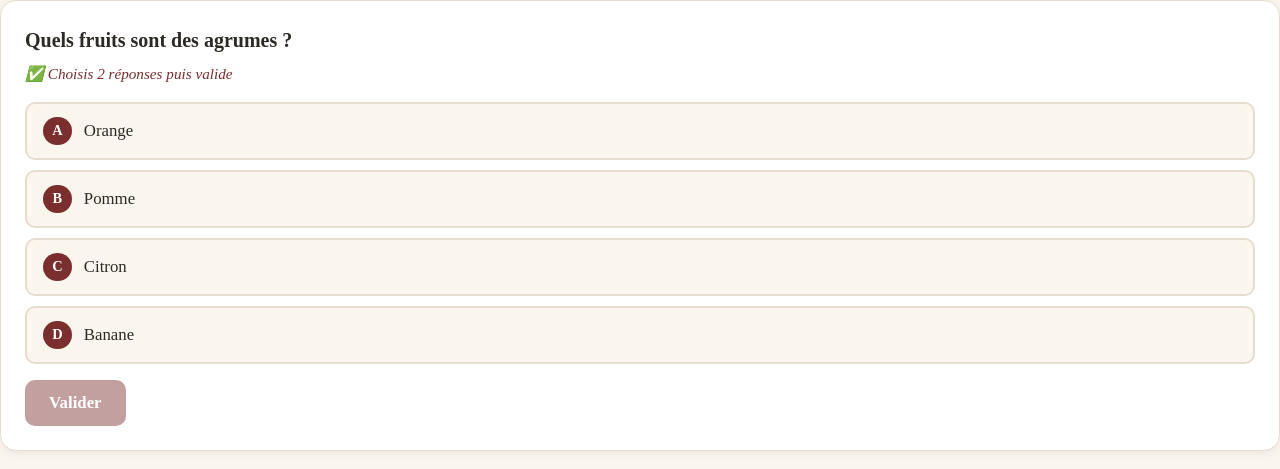
Test: QuestionCard - multi mode (several correct answers) › after reveal, the Valider button disappears and options are aria-disabled
Click the button "A Orange". click: (108, 130)
box: [25,102,1255,160]
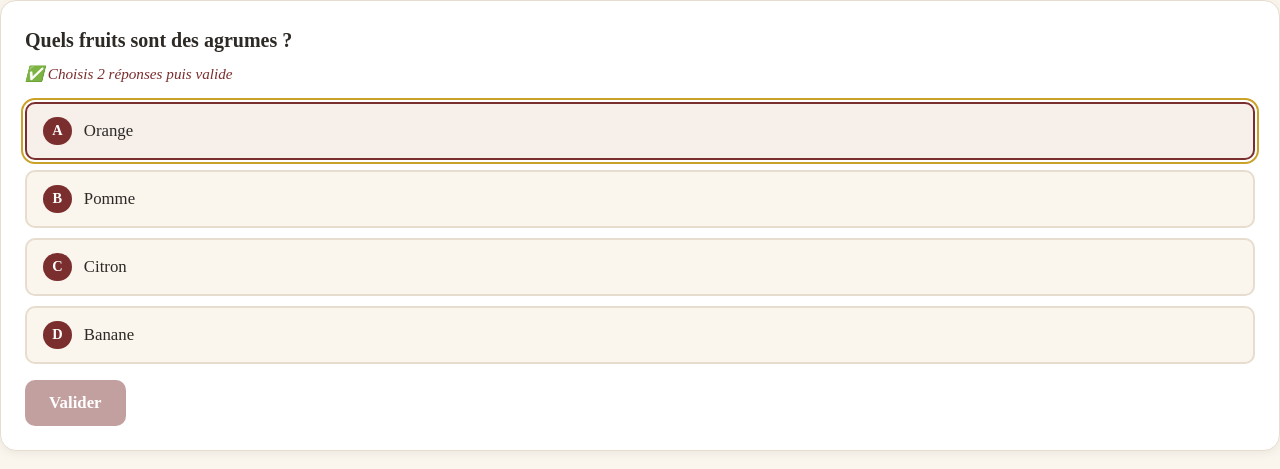
Click the button "C Citron". click: (105, 266)
box: [25,238,1255,296]
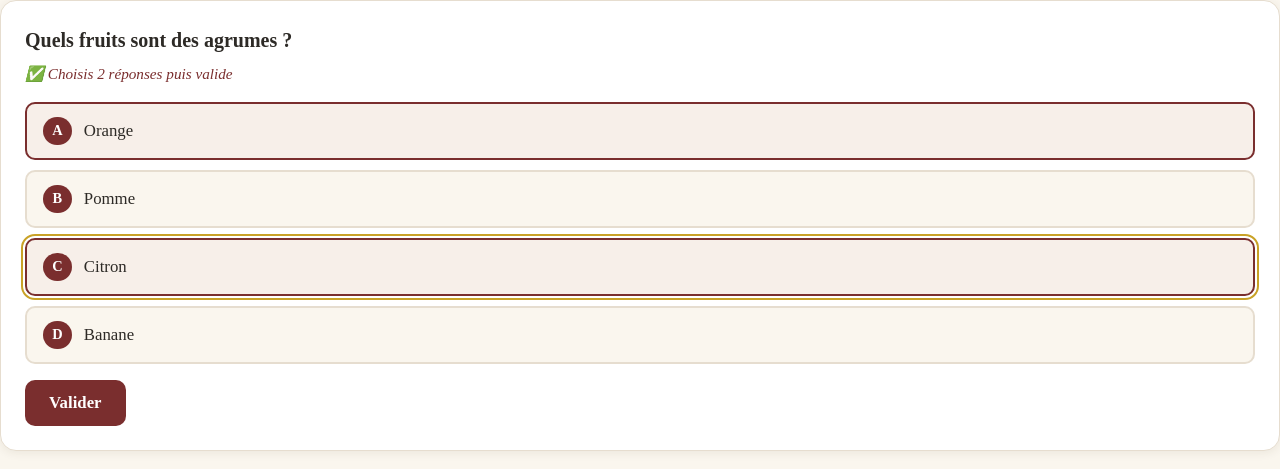
Click the button "Valider". click: (75, 403)
box: [25,380,126,426]
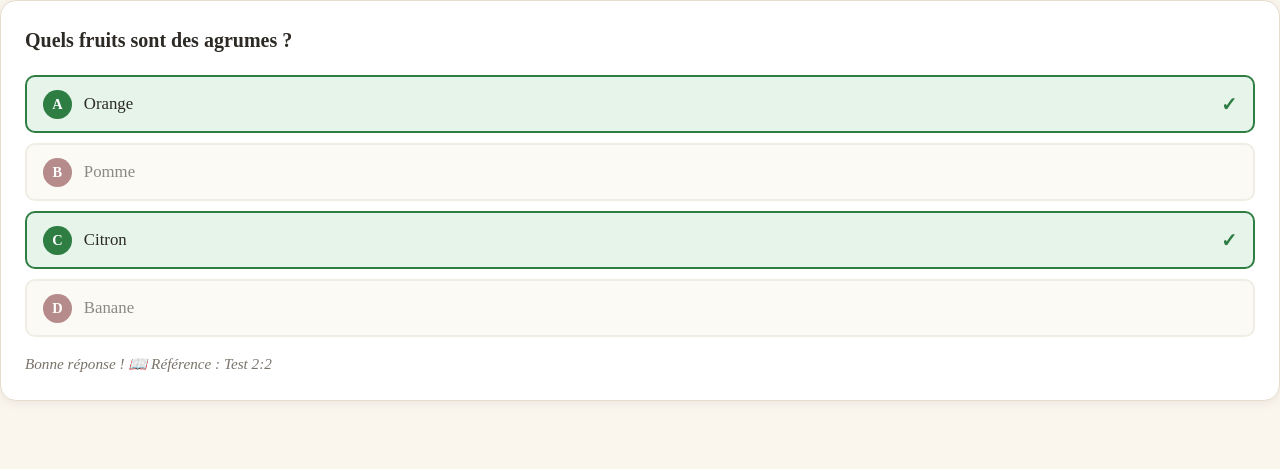
Expected: the button "Valider" is gone
